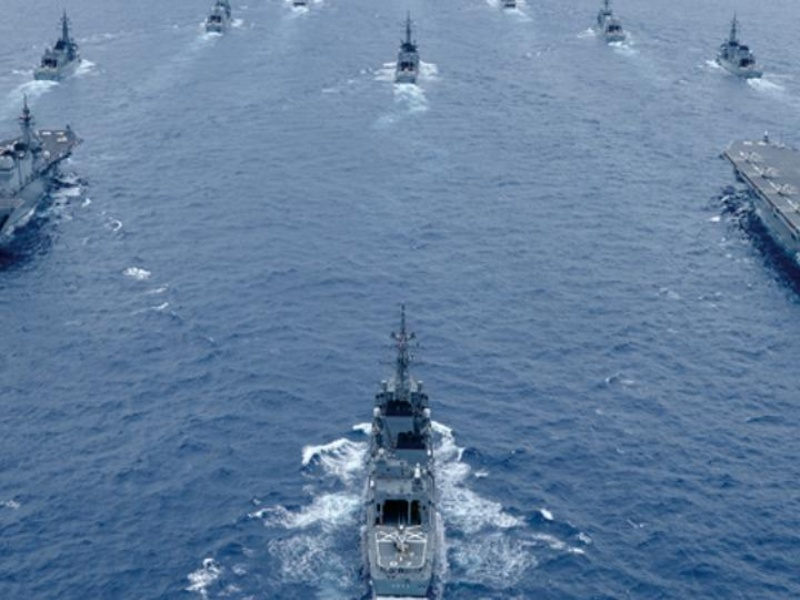carrier: (2, 107, 72, 252), (727, 136, 800, 259)
cruise: (338, 323, 455, 593), (30, 17, 85, 87), (714, 16, 767, 82), (392, 12, 423, 89), (594, 1, 629, 46), (202, 3, 237, 35)
